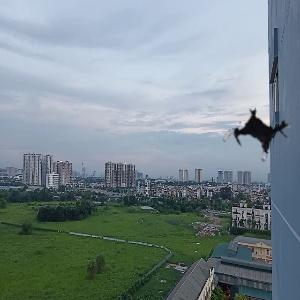drone: (222, 100, 296, 174)
